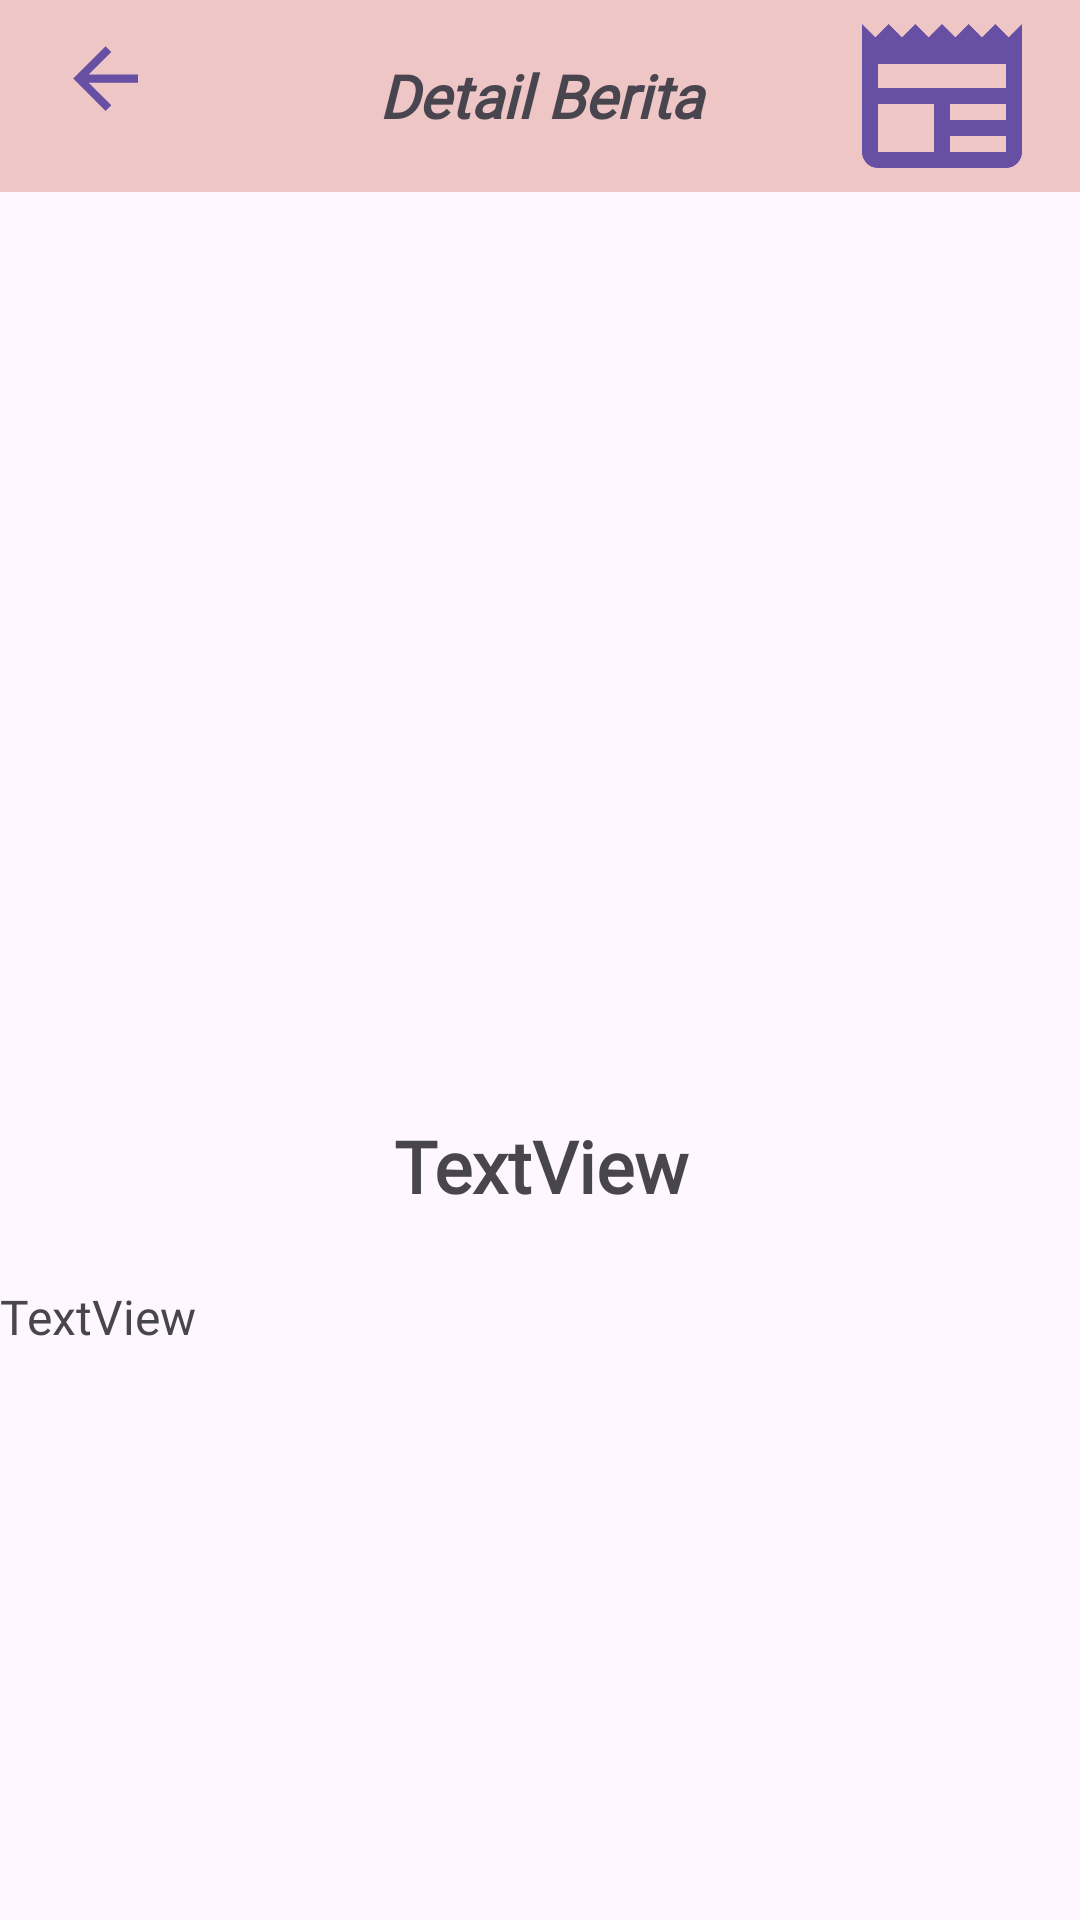

Icons on this 1080x1920 Android screen, each with the point to tap as point (x, y):
arrow back: point (105, 78)
newspaper: point (942, 96)
